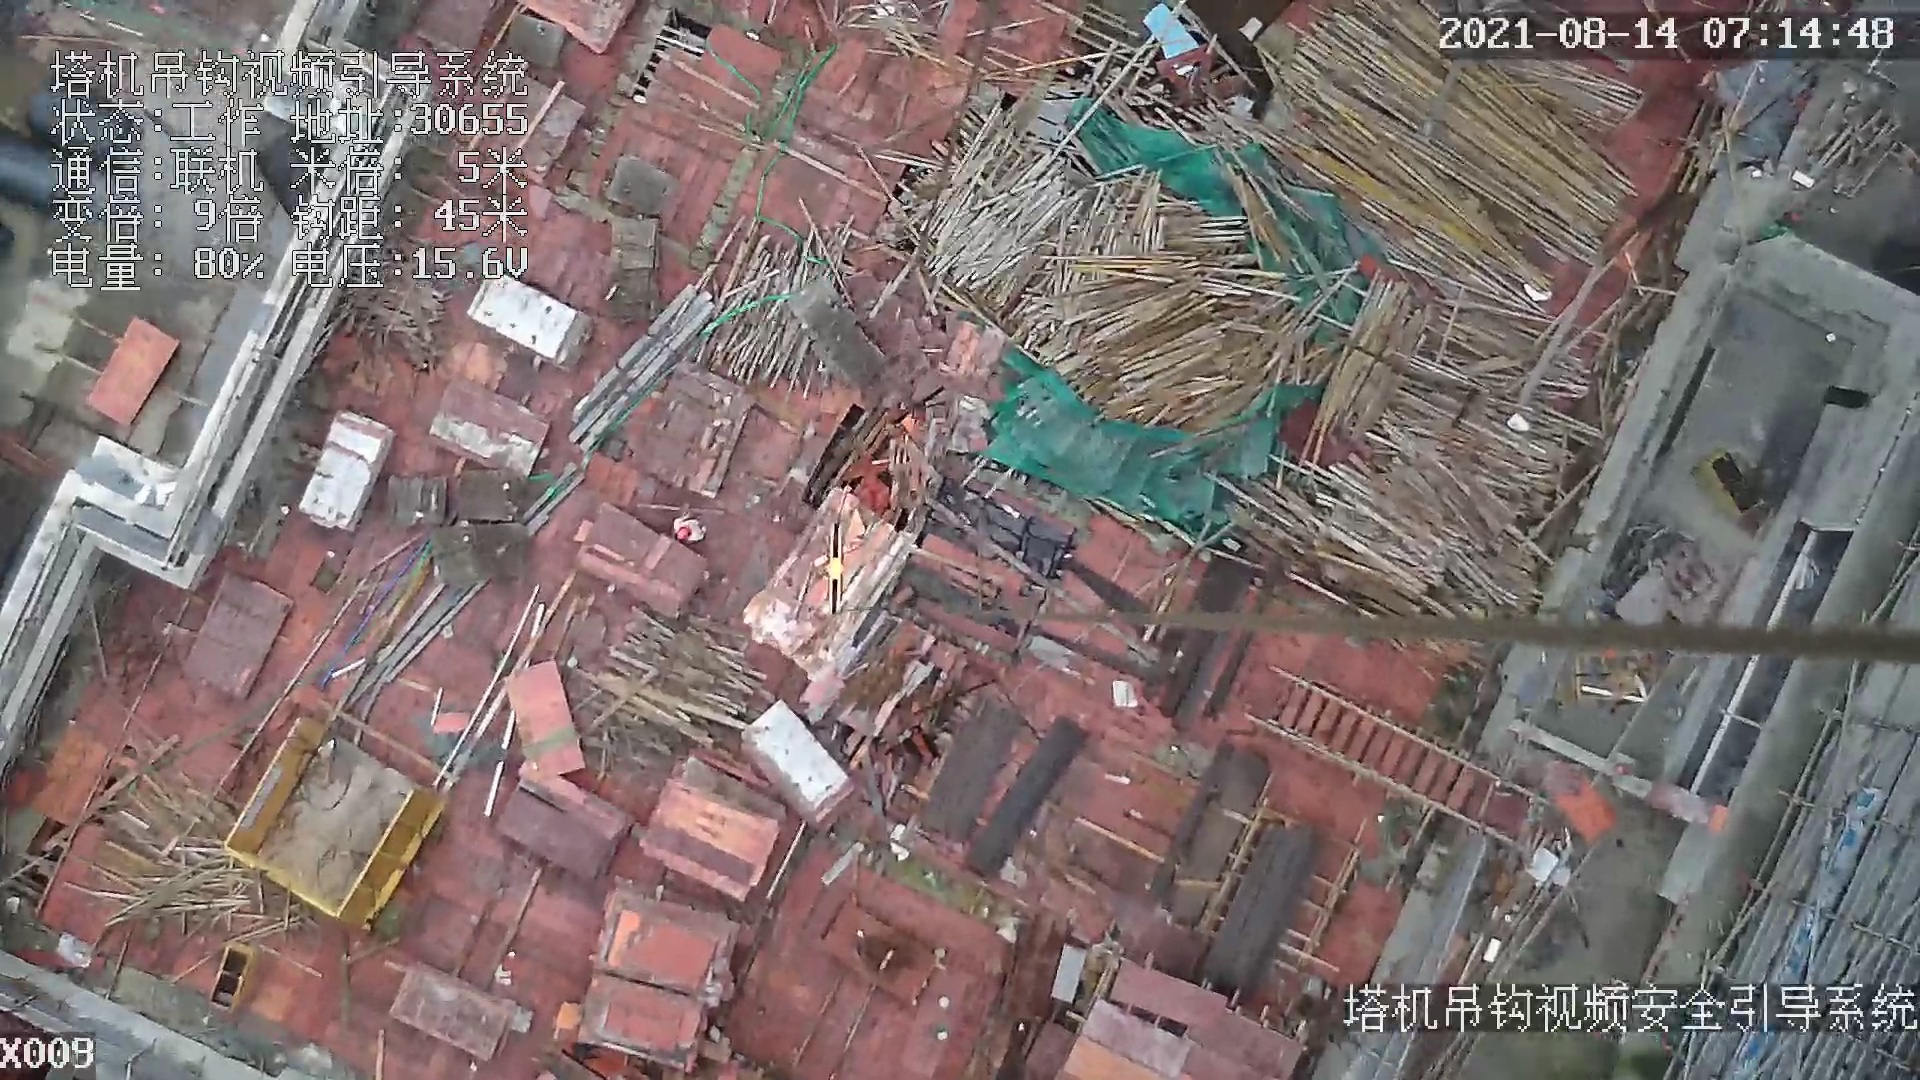hook: (824, 522, 851, 618)
